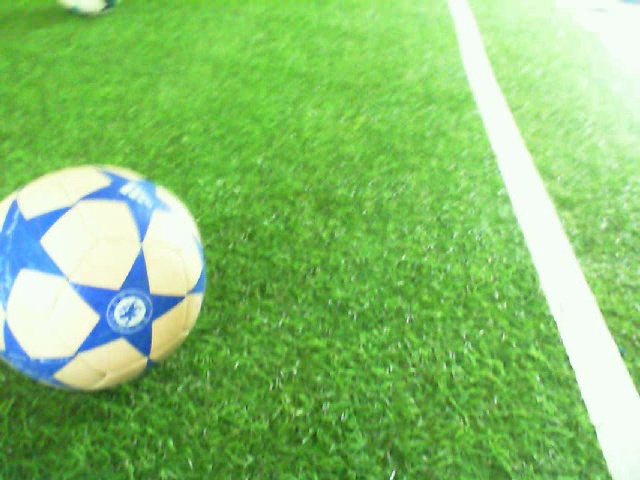ball: (1, 162, 207, 394)
